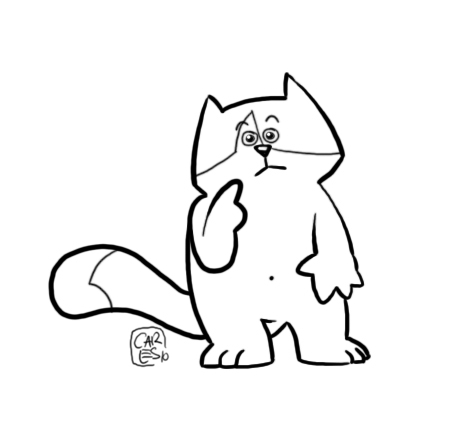dog: (99, 69, 416, 381)
